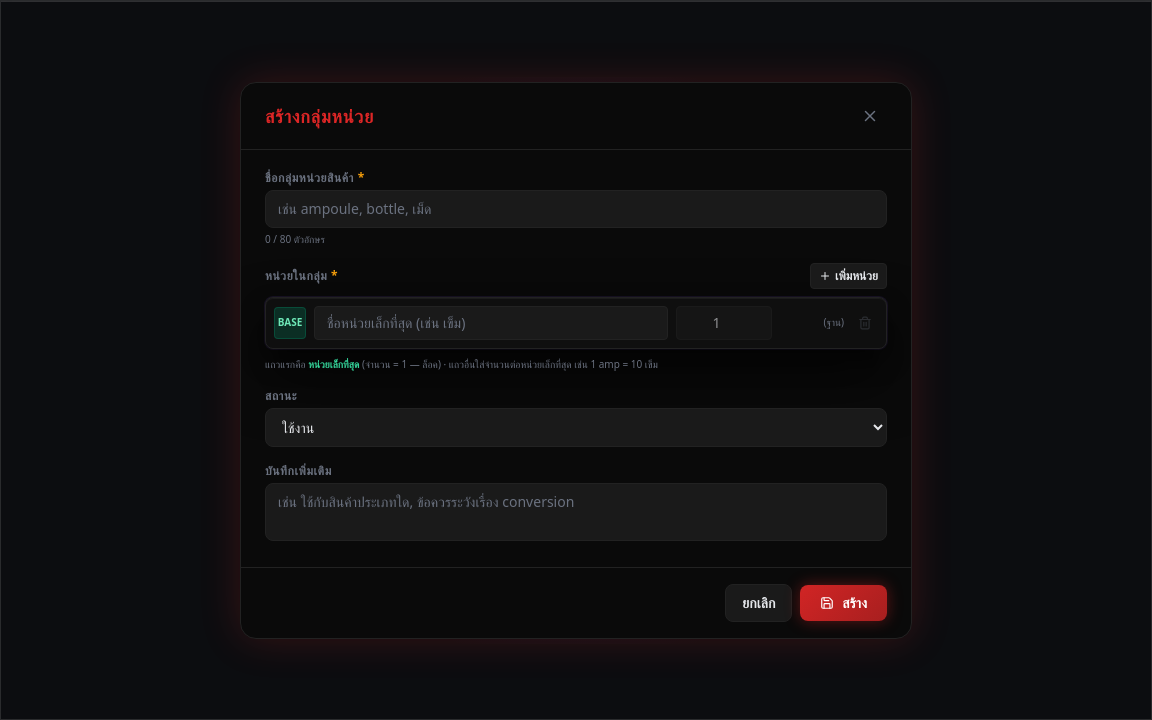
ProductUnitFormModal — PUM1..PUM10 › PUM3: add unit row button adds a new empty row (amount=2 default)
The width and height of the screenshot is (1152, 720).
Click the button "เพิ่มหน่วย". click: (848, 276)
box: x1=810 y1=262 x2=887 y2=288
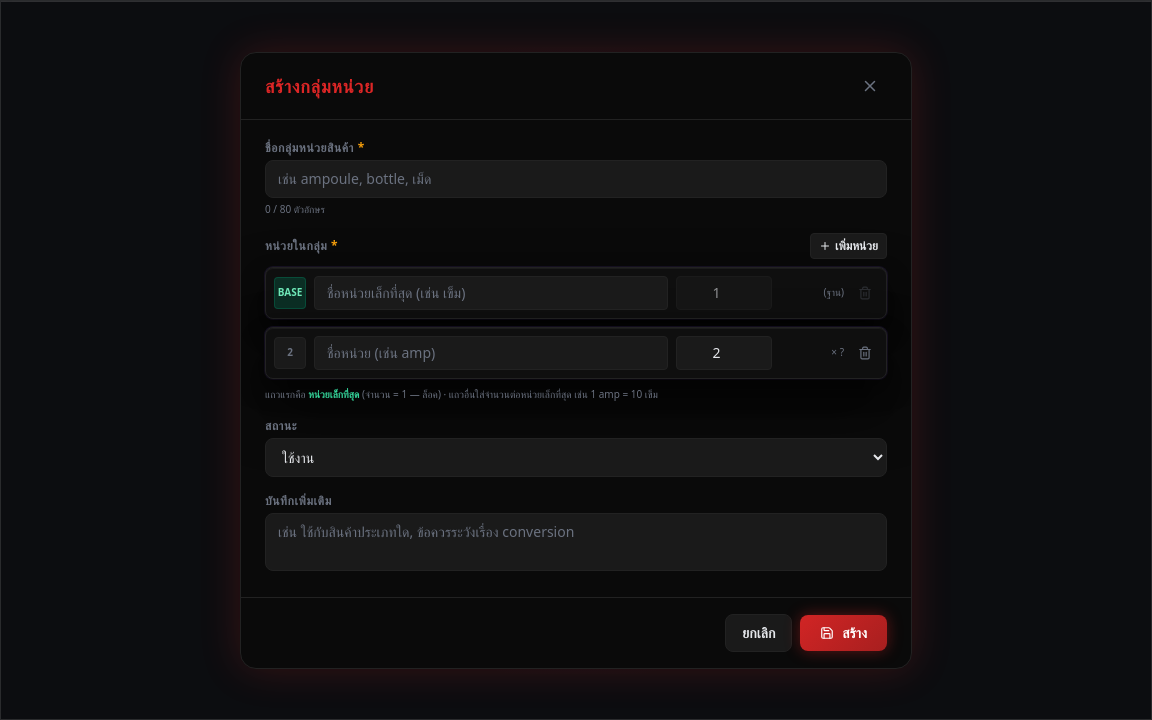
Result: the number of fields with placeholder "ชื่อหน่วยเล็กที่สุด (เช่น เข็ม)" is 2 at x1=314 y1=276 x2=668 y2=310; x1=314 y1=336 x2=668 y2=370
